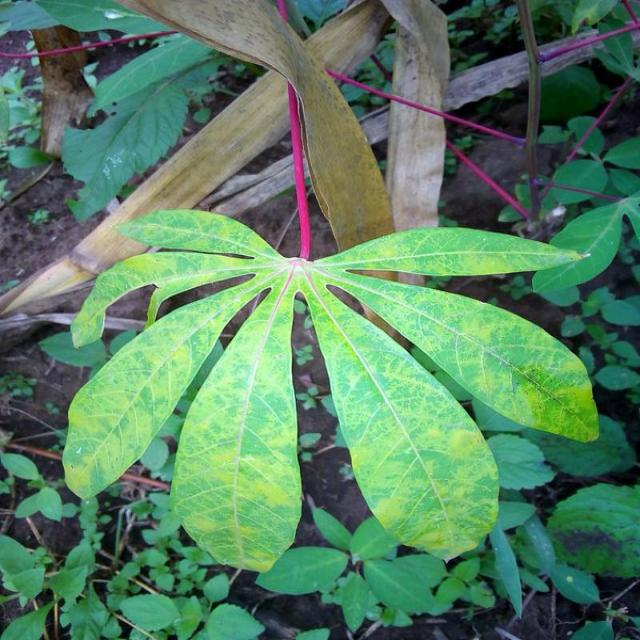cassava leaf: (59, 204, 598, 572), (170, 266, 304, 572)
